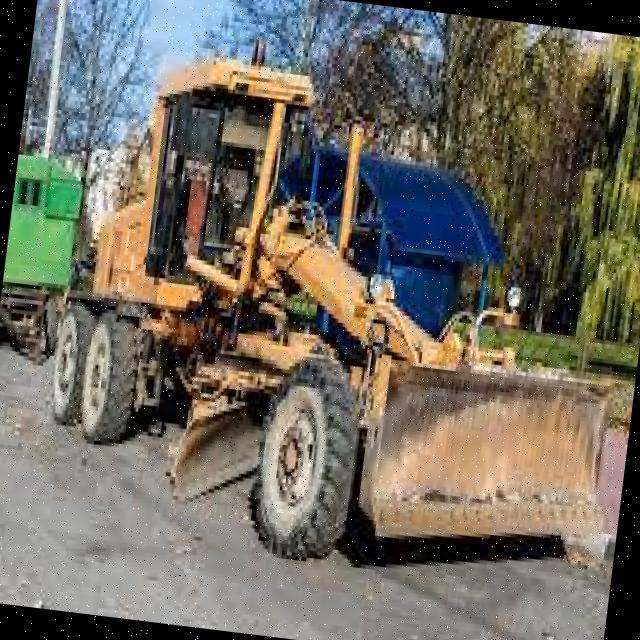Grader: (24, 14, 640, 585)
